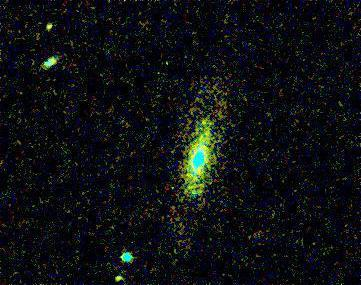star: (40, 11, 70, 41)
